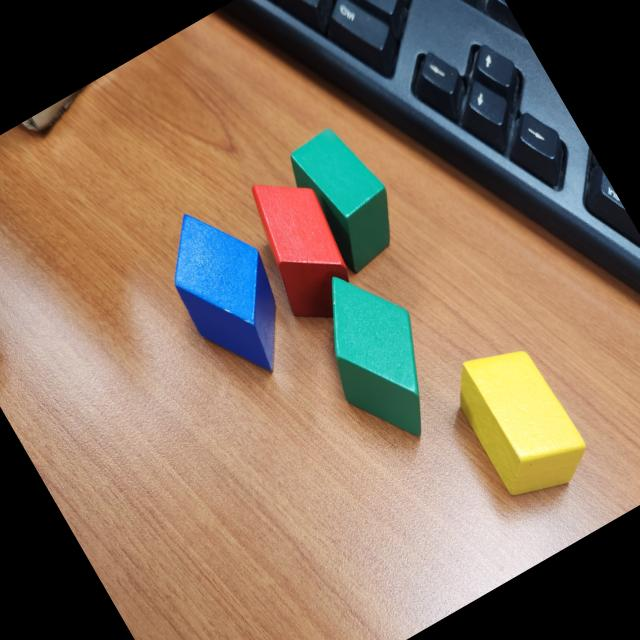blue: (142, 190, 316, 395)
green: (288, 251, 468, 461), (278, 117, 416, 277)
red: (228, 160, 376, 335)
yellow: (439, 326, 602, 512)
